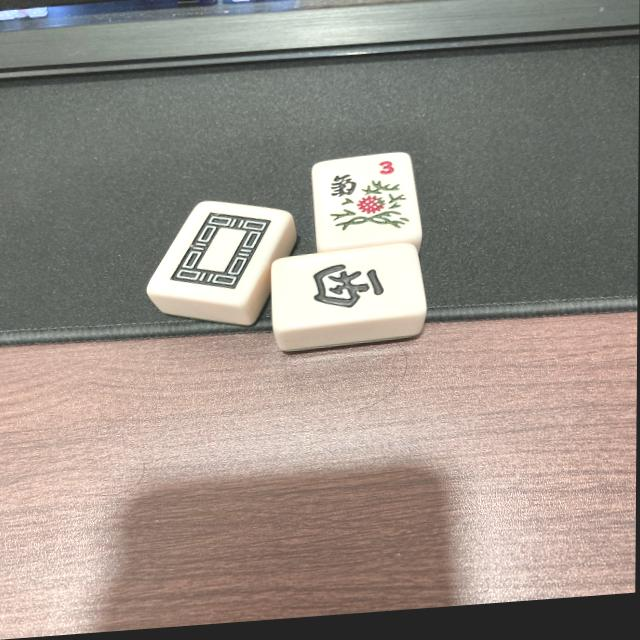bai: (156, 198, 284, 317)
f3: (313, 154, 418, 247)
west: (277, 245, 423, 327)
